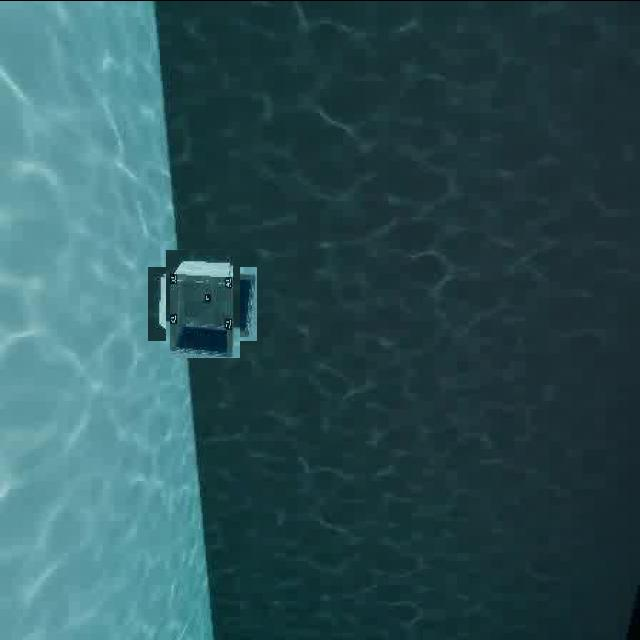Docking Station: (157, 258, 248, 348)
